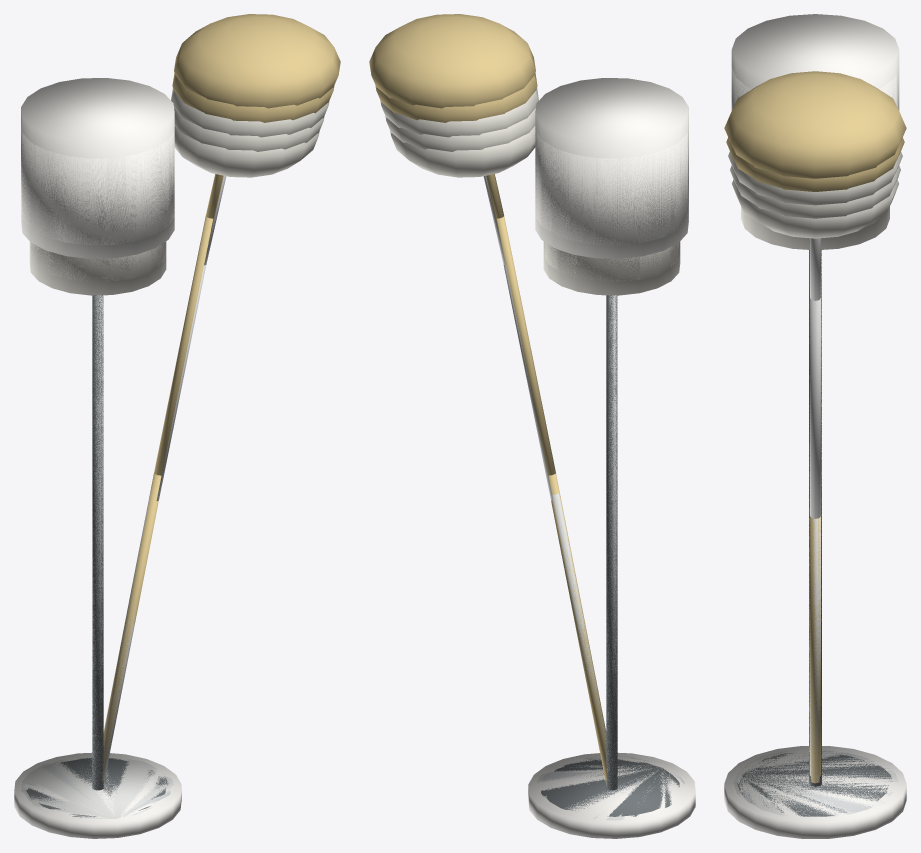
Rendered from Gear20.fbx.
3 renders of one model, left to right at view 1: azimuth 30°, elevation 25°; view 2: azimuth 150°, elevation 25°; view 3: azimuth 270°, elevation 25°, orthographic. The views are drawn at different scales.
Parts seen in each view (by area): view 1: Gear20_V5_Paper, Gear20_V10_Brass, Gear20_V4_Paper, Gear20_V5_Chrome, Gear20_V1_Charcoal, Gear20_V10_Quartz, Gear20_V1_Linen, Gear20_V2_Charcoal, Gear20_V6_Linen, Gear20_V9_Brass, Gear20_V8_Linen, Gear20_V7_Linen (+6 smaller); view 2: Gear20_V5_Paper, Gear20_V10_Brass, Gear20_V4_Paper, Gear20_V1_Charcoal, Gear20_V10_Quartz, Gear20_V1_Linen, Gear20_V6_Linen, Gear20_V9_Brass, Gear20_V5_Chrome, Gear20_V7_Quartz, Gear20_V2_Charcoal, Gear20_V8_Linen (+8 smaller); view 3: Gear20_V10_Brass, Gear20_V5_Paper, Gear20_V10_Quartz, Gear20_V6_Chrome, Gear20_V6_Linen, Gear20_V1_Charcoal, Gear20_V2_Charcoal, Gear20_V9_Brass, Gear20_V8_Linen, Gear20_V7_Linen, Gear20_V8_Quartz, Gear20_V1_Linen (+9 smaller).
Part boxes in pixels (x1,y1,x2,y2): Gear20_V5_Paper: (21, 78, 174, 245); Gear20_V10_Brass: (102, 14, 340, 779); Gear20_V4_Paper: (21, 123, 174, 258); Gear20_V5_Chrome: (23, 295, 172, 818); Gear20_V1_Charcoal: (29, 295, 165, 816); Gear20_V10_Quartz: (14, 753, 181, 838); Gear20_V1_Linen: (29, 242, 166, 295); Gear20_V2_Charcoal: (28, 295, 167, 809); Gear20_V6_Linen: (174, 125, 319, 177); Gear20_V9_Brass: (104, 73, 334, 747); Gear20_V8_Linen: (171, 88, 329, 137); Gear20_V7_Linen: (174, 108, 324, 151); Gear20_V5_Paper: (535, 78, 688, 245); Gear20_V10_Brass: (369, 14, 606, 751); Gear20_V4_Paper: (535, 130, 688, 258); Gear20_V1_Charcoal: (546, 295, 679, 816); Gear20_V10_Quartz: (528, 753, 695, 838); Gear20_V1_Linen: (543, 241, 680, 295); Gear20_V6_Linen: (390, 125, 535, 177); Gear20_V9_Brass: (375, 73, 604, 724); Gear20_V5_Chrome: (538, 295, 639, 818); Gear20_V7_Quartz: (536, 755, 690, 821); Gear20_V2_Charcoal: (546, 295, 667, 809); Gear20_V8_Linen: (380, 88, 538, 137); Gear20_V10_Brass: (724, 71, 906, 782); Gear20_V5_Paper: (731, 14, 899, 110); Gear20_V10_Quartz: (724, 746, 906, 838); Gear20_V6_Chrome: (732, 238, 898, 805); Gear20_V6_Linen: (732, 179, 898, 238); Gear20_V1_Charcoal: (741, 250, 888, 813); Gear20_V2_Charcoal: (739, 250, 889, 812); Gear20_V9_Brass: (726, 137, 904, 774); Gear20_V8_Linen: (728, 152, 902, 205); Gear20_V7_Linen: (730, 165, 900, 218); Gear20_V8_Quartz: (728, 747, 901, 820); Gear20_V1_Linen: (741, 206, 889, 249).
Bounding box in the file's own units: 81.88 × 189 × 39.2.
